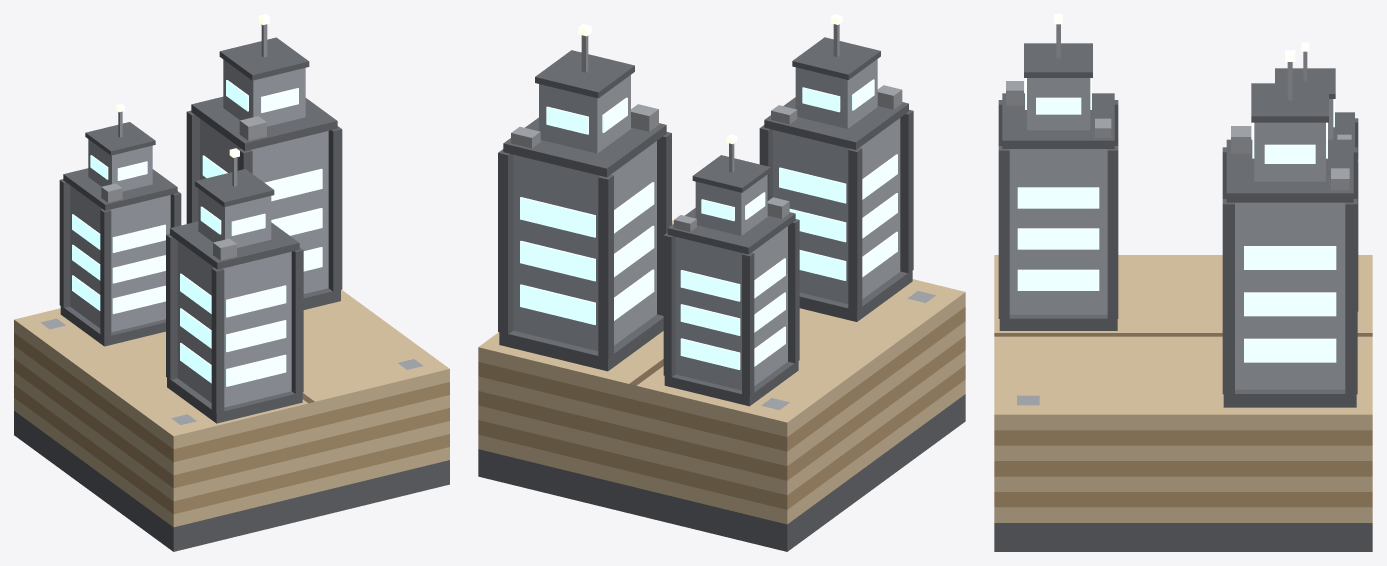
File: PlywoodTile_Building3.fbx
3 views of the same model, side by side, from view 1: azimuth 30°, elevation 25°; view 2: azimuth 150°, elevation 25°; view 3: azimuth 270°, elevation 25° (orthographic). The views are drawn at different scales.
Parts seen in each view (by area): view 1: PlywoodTile_Building3; view 2: PlywoodTile_Building3; view 3: PlywoodTile_Building3.
Part boxes in pixels (box(x1,y1,x2,y2)): PlywoodTile_Building3: box(14, 14, 449, 551); PlywoodTile_Building3: box(478, 14, 965, 551); PlywoodTile_Building3: box(994, 14, 1372, 551).
Bounding box in the file's own units: 1 × 1.35 × 1.
